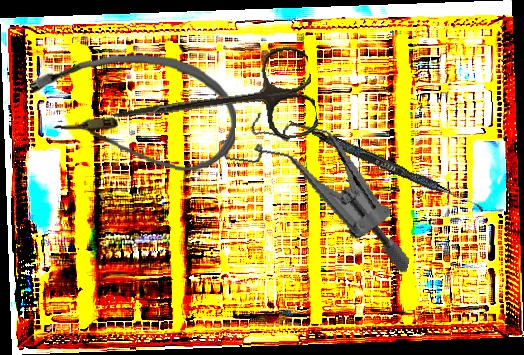Cannula: (28, 50, 238, 174)
Iris Scissors: (107, 43, 320, 166)
Spatula Surgical: (286, 117, 487, 213)
Speculum: (201, 103, 435, 275)
